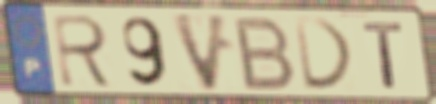9: (120, 15, 169, 89)
B: (233, 15, 299, 93)
D: (291, 15, 358, 93)
R: (50, 12, 117, 90)
T: (359, 19, 408, 91)
V: (168, 11, 233, 95)
